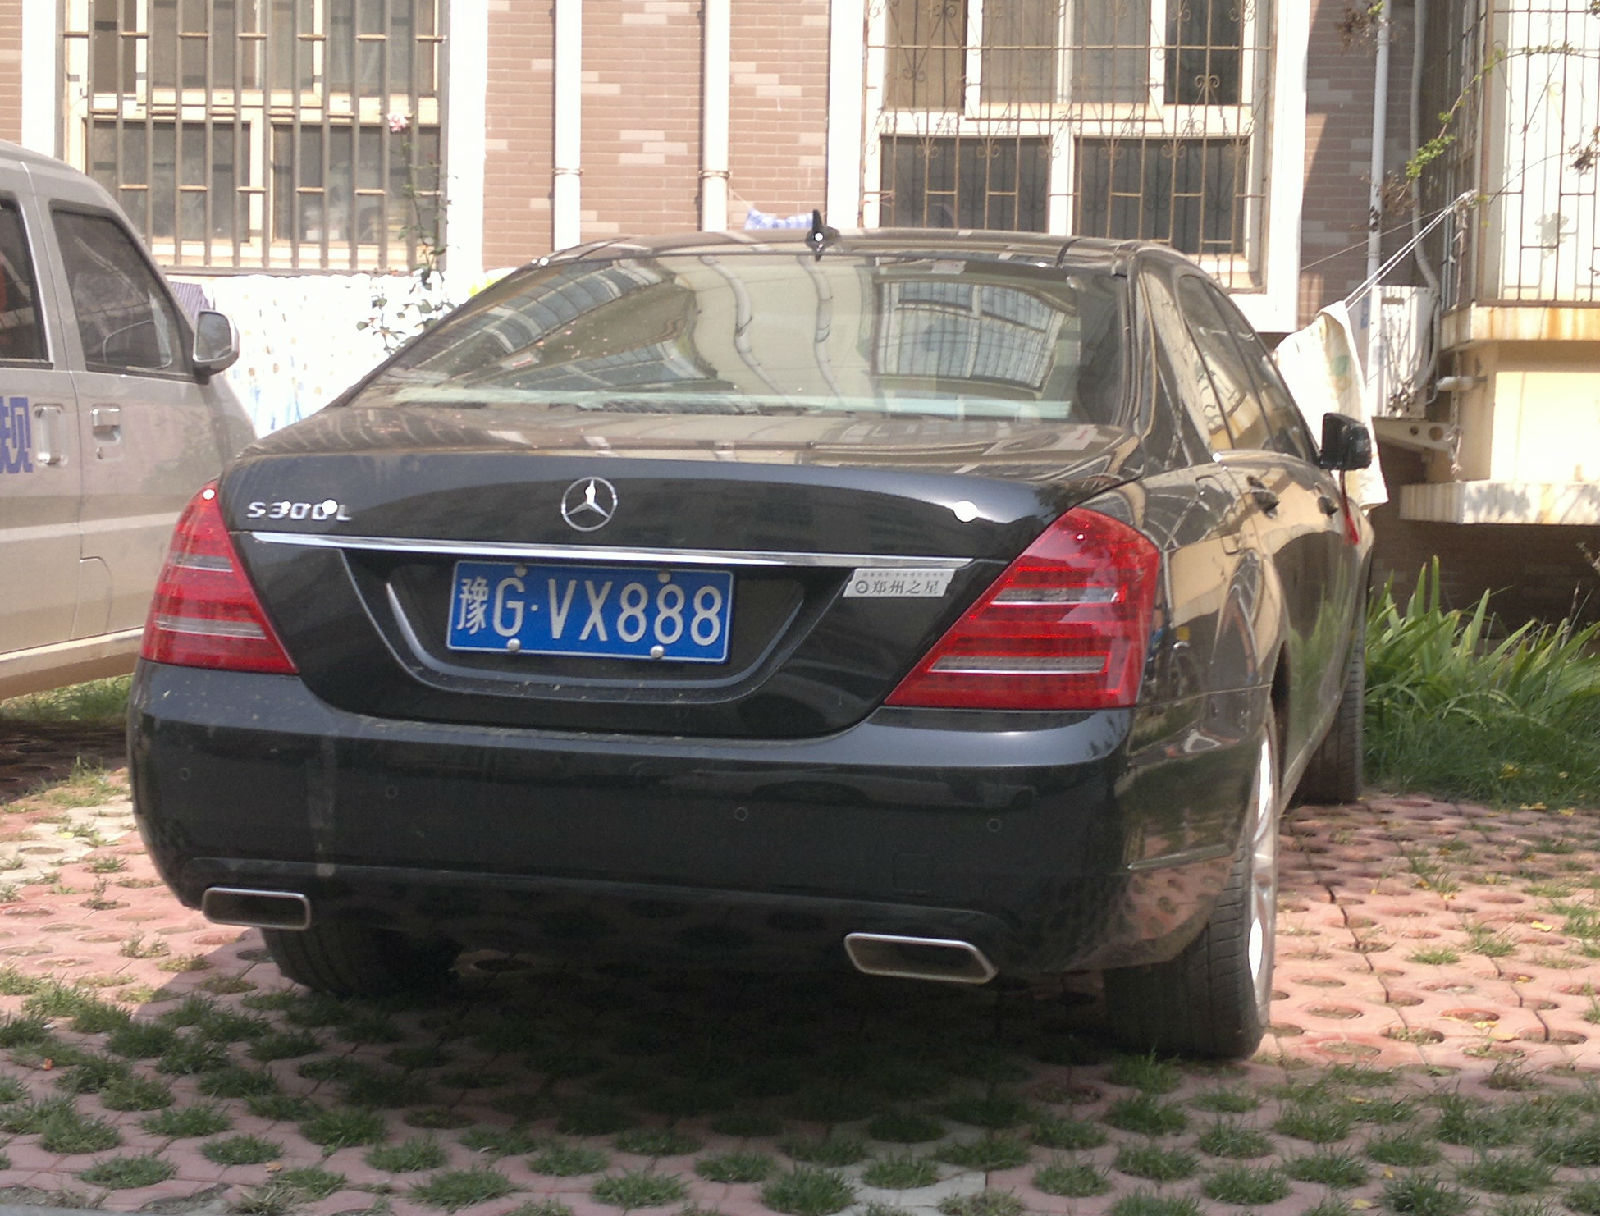plate_number: (455, 557, 731, 657)
